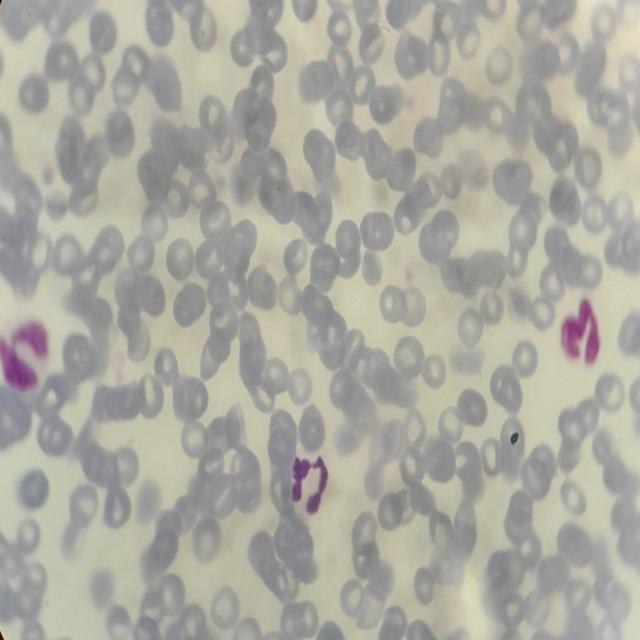Neutrofilo: (2, 317, 54, 399), (558, 293, 607, 378), (291, 445, 337, 520)
